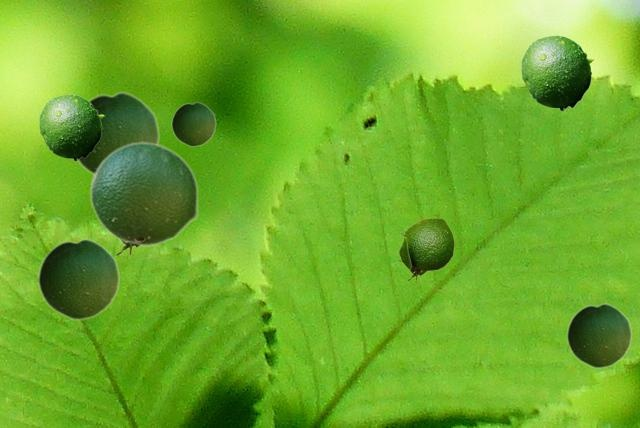dalandan: (89, 141, 198, 246), (76, 91, 159, 174), (37, 237, 119, 320), (521, 35, 593, 110), (566, 302, 631, 368), (39, 94, 103, 160), (398, 218, 453, 280), (171, 101, 215, 146), (115, 242, 138, 255)
